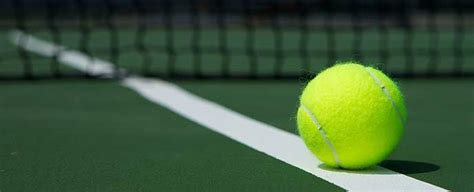tennis_ball: (296, 62, 408, 170)
